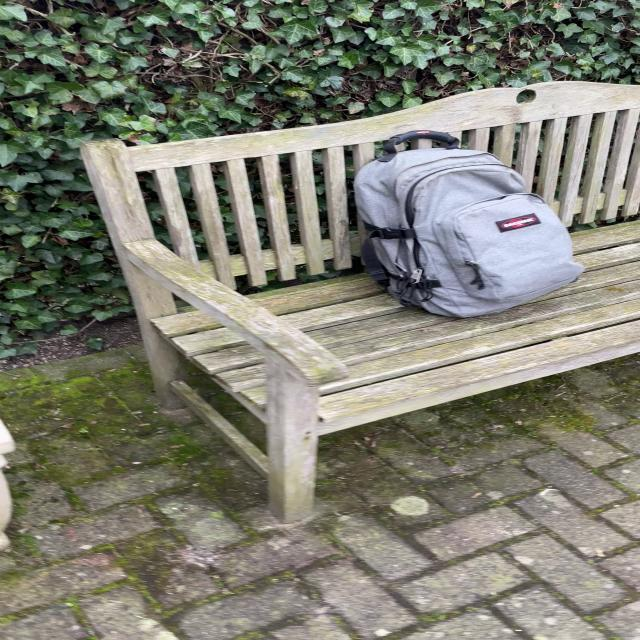backpack: (344, 125, 589, 322)
